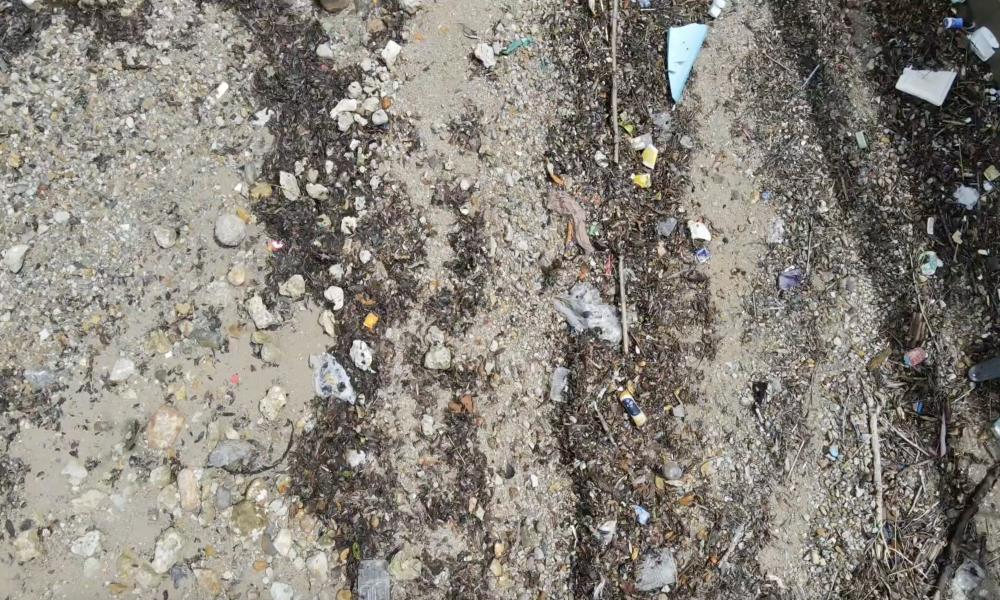plastic bottle: (616, 385, 647, 430)
